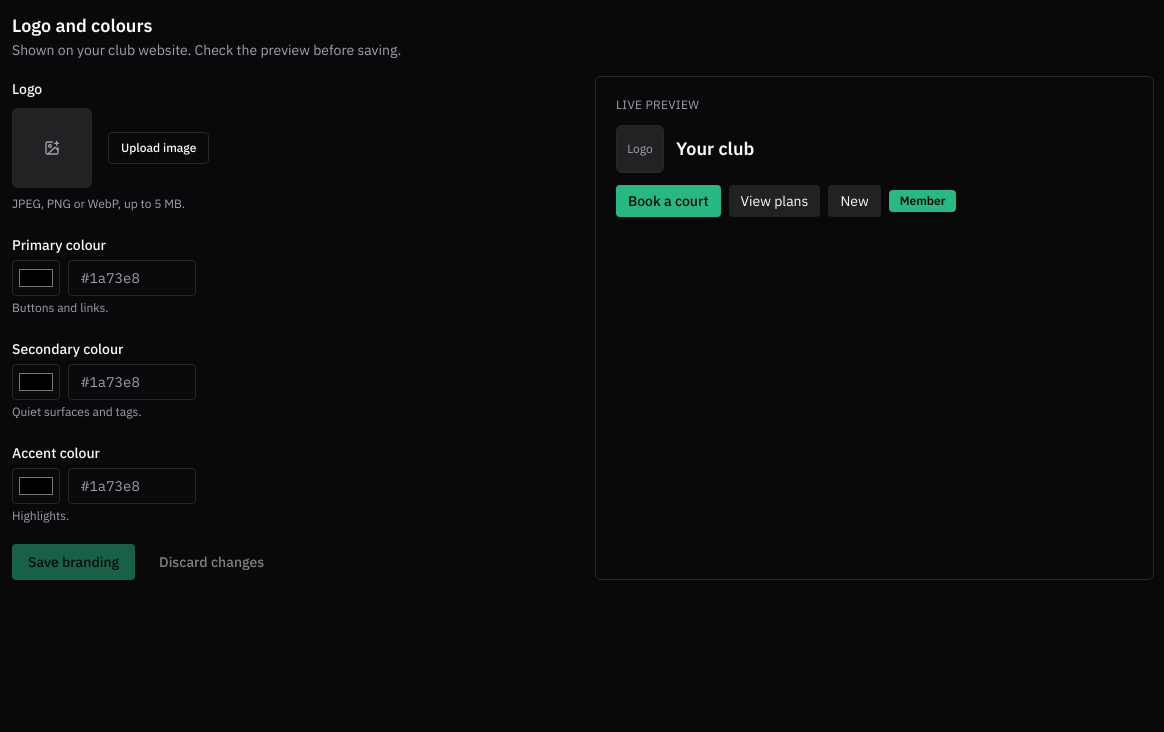
Test: branding editor › refuses invalid colours and does not enable saving
Type "red; background:url(//evil)" into the field labelled "Primary colour" at (132, 278), box [68,260,196,296]
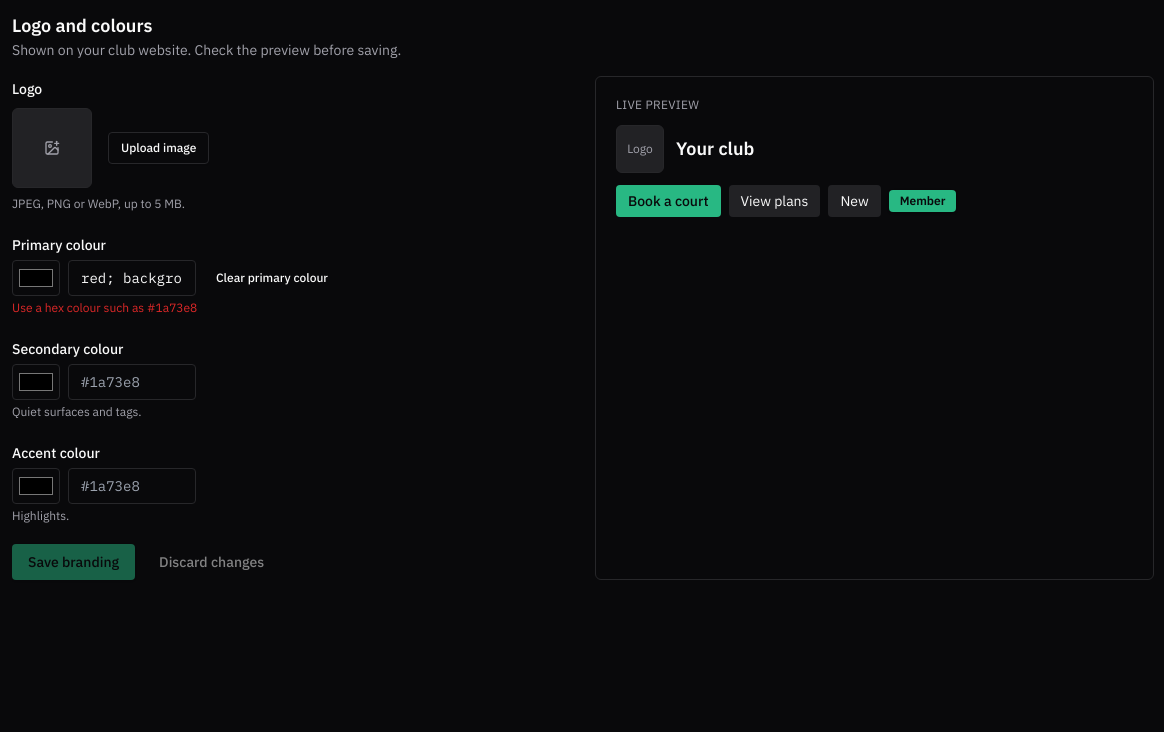
expect the button "Save branding" is disabled: met, box [12,544,135,580]
expect the text "Use a hex colour such as #1a73e8" is shown: met, box [12,300,197,315]
